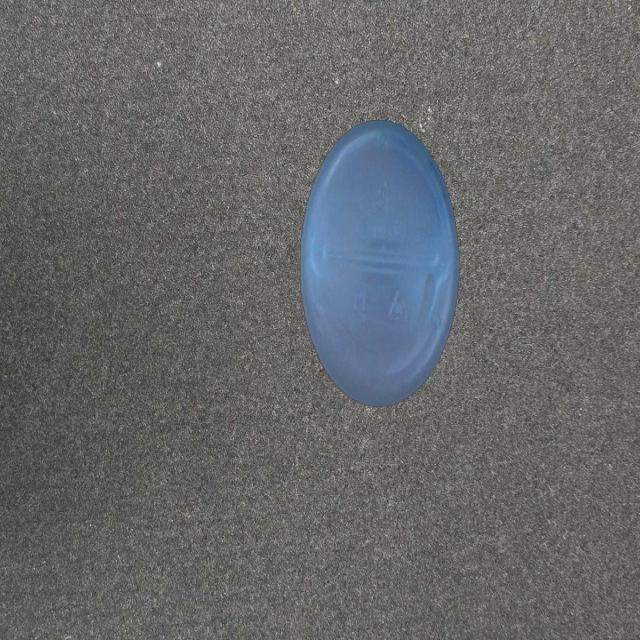bottle: (298, 116, 462, 409)
